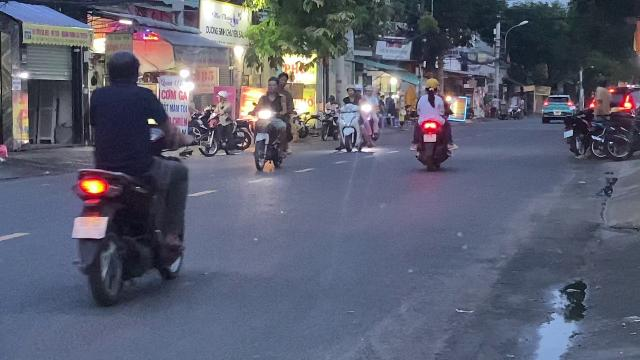helmet: (104, 48, 140, 84), (424, 78, 438, 94)
licenseplate: (72, 216, 108, 238), (424, 134, 436, 142)
motorcyclist: (68, 47, 192, 306), (250, 72, 296, 172), (410, 78, 454, 170)
nohelmet: (266, 78, 278, 94), (276, 71, 288, 87)
